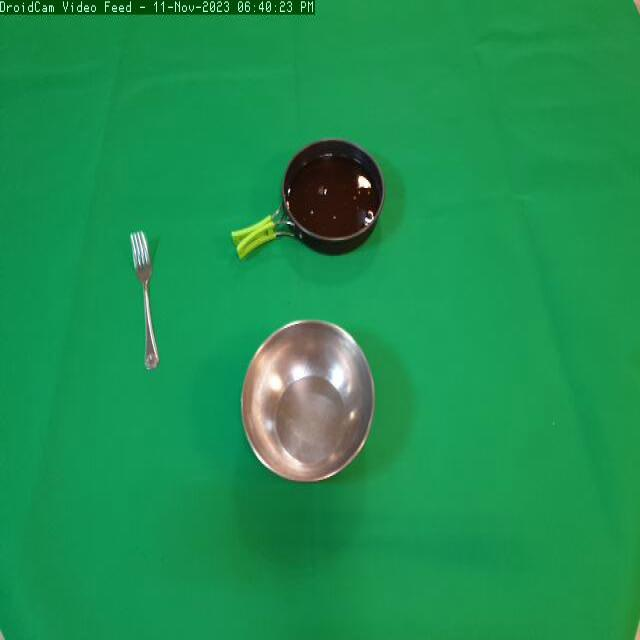bowl: (232, 311, 383, 489)
fork: (124, 221, 176, 381)
fullpan: (226, 135, 389, 271)
